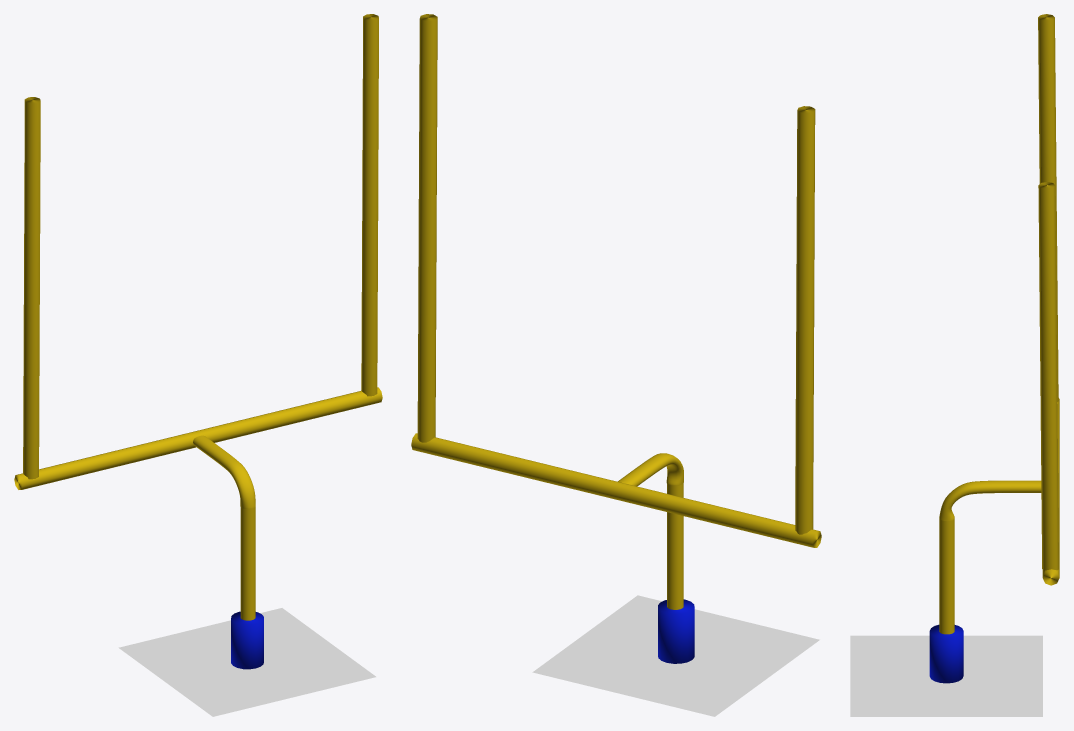
File: football goalpost.fbx
The picture shows the model from 3 angles, left to right: view 1: azimuth 30°, elevation 25°; view 2: azimuth 150°, elevation 25°; view 3: azimuth 270°, elevation 25°; orthographic projection. The views are drawn at different scales.
Visible parts, largest first — view 1: Plane, Cylinder.003, Cylinder.004, Cylinder.002, Cylinder.001, Cylinder, Plane.001; view 2: Plane, Cylinder.004, Cylinder.003, Cylinder.002, Cylinder, Cylinder.001, Plane.001; view 3: Plane, Cylinder.004, Cylinder.003, Cylinder, Cylinder.001, Plane.001, Cylinder.002.
Boxes of the visible parts, box(x1,y1,x2,y2) form: Plane: box(118, 608, 375, 716); Cylinder.003: box(23, 97, 40, 479); Cylinder.004: box(361, 14, 378, 396); Cylinder.002: box(14, 387, 382, 489); Cylinder.001: box(240, 507, 255, 620); Cylinder: box(231, 611, 263, 669); Plane.001: box(193, 435, 255, 508); Plane: box(532, 595, 819, 716); Cylinder.004: box(417, 14, 437, 442); Cylinder.003: box(795, 106, 815, 534); Cylinder.002: box(411, 433, 821, 547); Cylinder: box(658, 599, 694, 663); Cylinder.001: box(667, 483, 683, 609); Plane.001: box(618, 453, 683, 486); Plane: box(850, 635, 1042, 716); Cylinder.004: box(1038, 182, 1058, 571); Cylinder.003: box(1038, 14, 1058, 401); Cylinder: box(929, 624, 963, 683); Cylinder.001: box(939, 518, 954, 634); Plane.001: box(939, 480, 1041, 520); Cylinder.002: box(1042, 398, 1059, 585).
Size of the model in its own units: 50 by 75.27 by 24.72.
